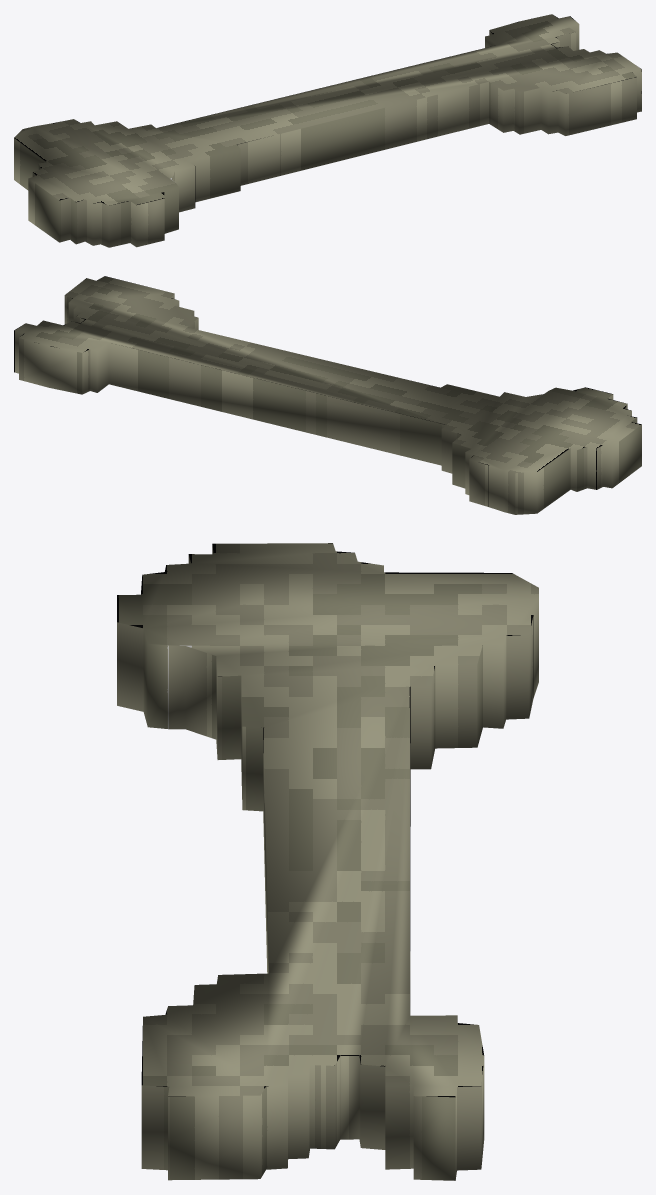
The model's file is boneitemtest1.glb.
3 views of the same model, one above another, from view 1: azimuth 30°, elevation 25°; view 2: azimuth 150°, elevation 25°; view 3: azimuth 270°, elevation 25° (orthographic). The views are drawn at different scales.
Parts seen in each view (by area): view 1: boneItem; view 2: boneItem; view 3: boneItem.
Part boxes in pixels (bbox=[...]): boneItem: bbox=[14, 14, 641, 247]; boneItem: bbox=[14, 276, 641, 514]; boneItem: bbox=[117, 543, 538, 1180].
Bounding box in the file's own units: 1.69 × 0.1188 × 0.5442.
Materials: 1 (1 with a texture image).
